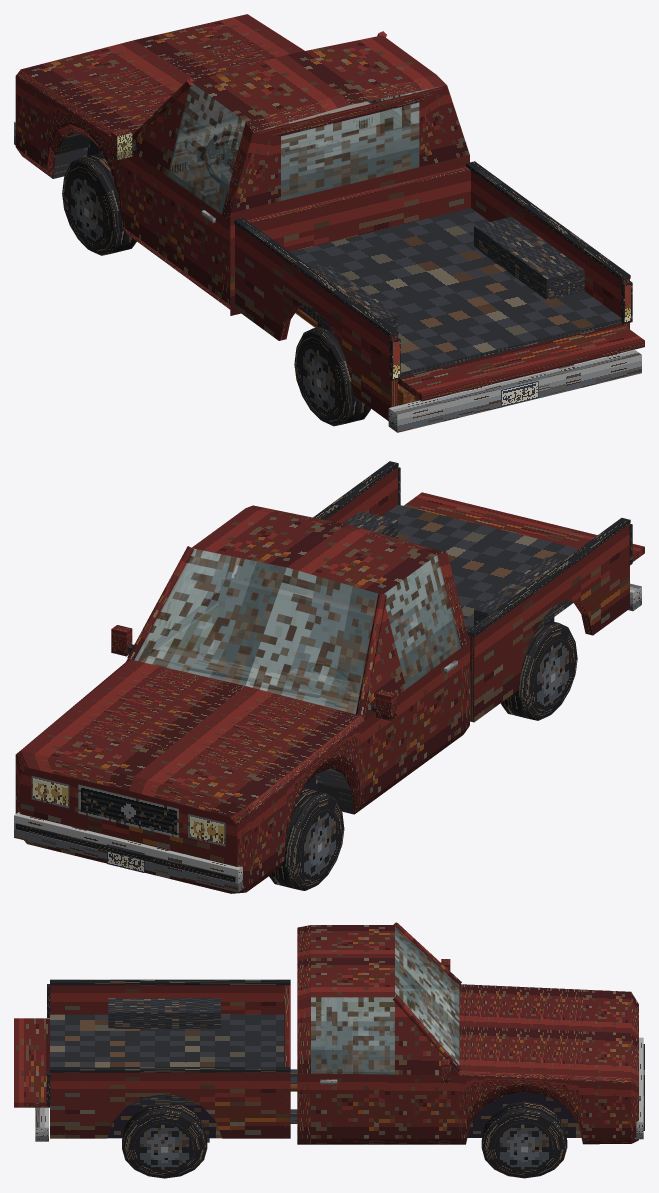
Rendered from VEH_Pickup_Abandoned.glb.
3 views of the same model, one above another, from view 1: azimuth 30°, elevation 25°; view 2: azimuth 150°, elevation 25°; view 3: azimuth 270°, elevation 25° (orthographic). The views are drawn at different scales.
Parts seen in each view (by area): view 1: Body, Door_FL, Hood, Tailgate, Wheel_FL, Wheel_RL, Door_FR, SteeringWheel; view 2: Body, Hood, Door_FL, Door_FR, Wheel_FL, Wheel_RL, Tailgate; view 3: Body, Door_FR, Hood, Wheel_FR, Wheel_RR, Door_FL, Tailgate.
Part boxes in pixels (x1,y1,x2,y2): Body: (14, 31, 641, 432); Door_FL: (111, 82, 245, 307); Hood: (21, 14, 304, 134); Tailgate: (398, 323, 644, 401); Wheel_FL: (62, 153, 136, 255); Wheel_RL: (294, 326, 370, 426); Door_FR: (367, 87, 438, 133); SteeringWheel: (205, 131, 241, 182); Body: (14, 461, 641, 893); Hood: (21, 659, 359, 805); Door_FL: (358, 555, 460, 811); Door_FR: (111, 549, 230, 662); Wheel_FL: (269, 788, 344, 890); Wheel_RL: (500, 620, 577, 720); Tailgate: (404, 492, 644, 561); Body: (35, 922, 644, 1144); Door_FR: (311, 997, 461, 1144); Hood: (459, 984, 631, 1077); Wheel_FR: (481, 1101, 567, 1178); Wheel_RR: (122, 1105, 207, 1178); Door_FL: (311, 930, 458, 1046); Tailgate: (14, 1018, 49, 1107).
Size of what is drawn, in the model's own units: 2.22 by 1.75 by 5.61.
3 materials, 3 textured.
